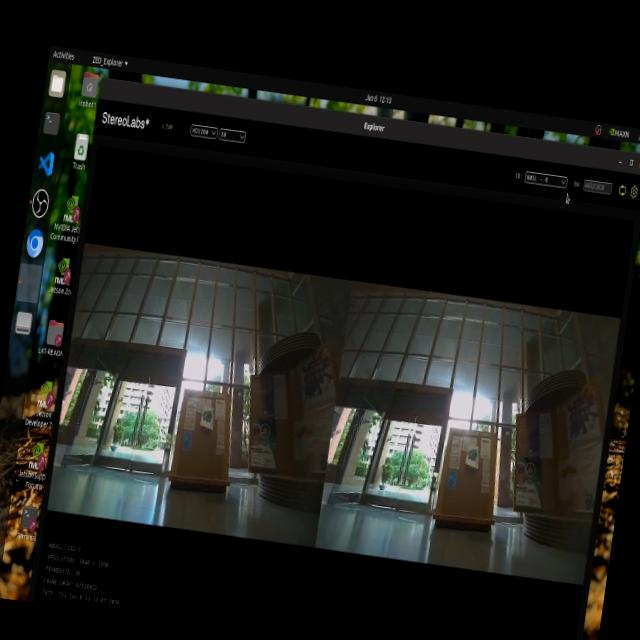green: (200, 404, 214, 428), (472, 452, 485, 472)
